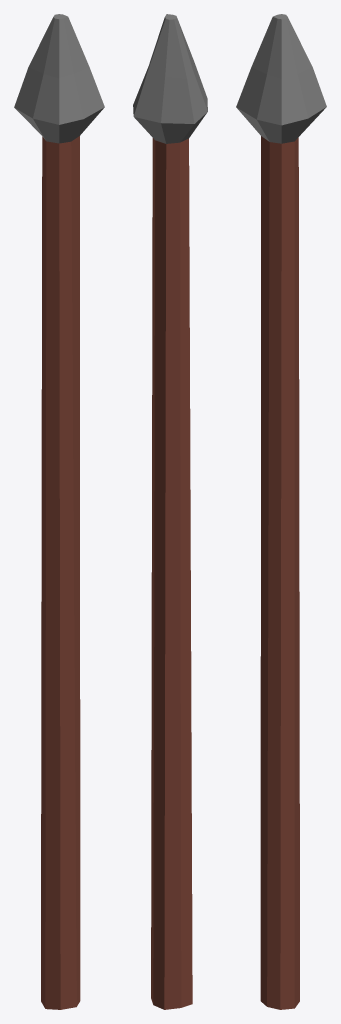
The model's file is lanza.fbx.
3 renders of one model, left to right at view 1: azimuth 90°, elevation 25°; view 2: azimuth 210°, elevation 25°; view 3: azimuth 270°, elevation 25°, orthographic.
Parts seen in each view (by area): view 1: Cube; view 2: Cube; view 3: Cube.
Part boxes in pixels (x1,y1,x2,y2): Cube: (14, 14, 104, 1009); Cube: (133, 14, 207, 1009); Cube: (236, 14, 326, 1009).
Size of the model in its own units: 1.94 by 24.63 by 2.06.
